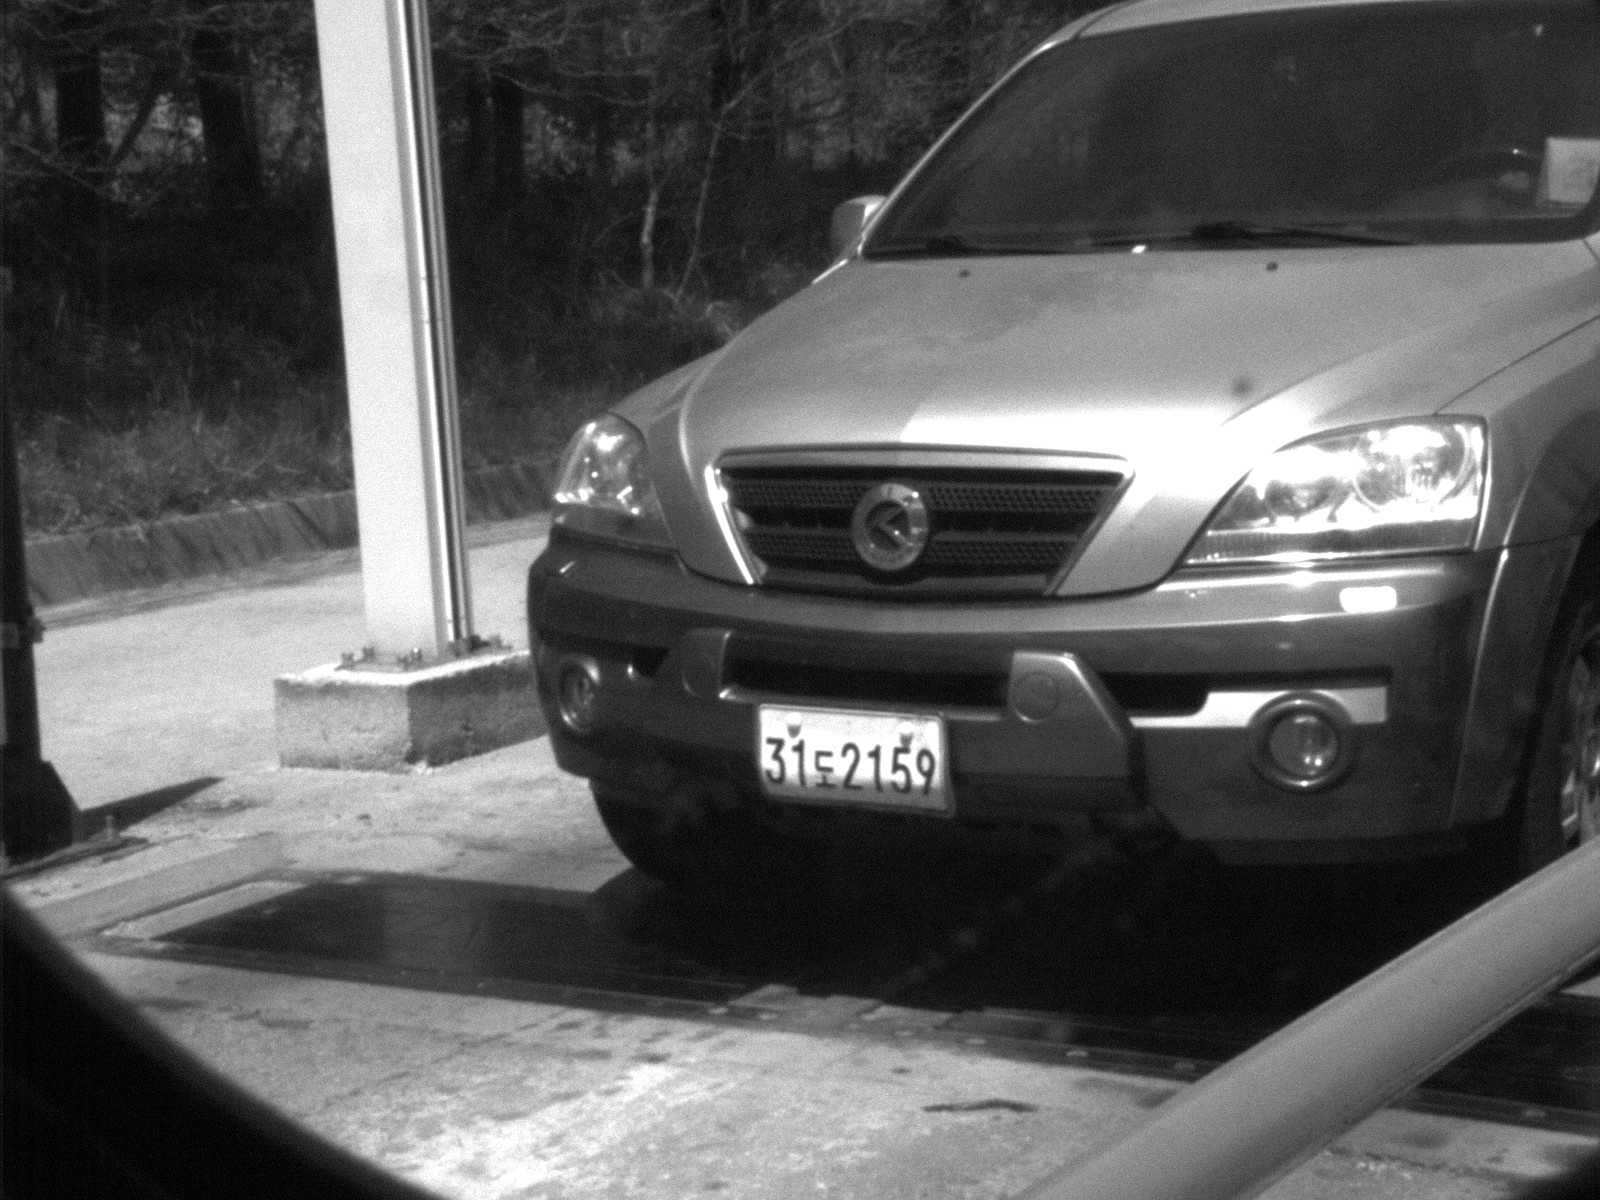car: (522, 1, 1600, 915)
plate: (753, 698, 958, 820)
